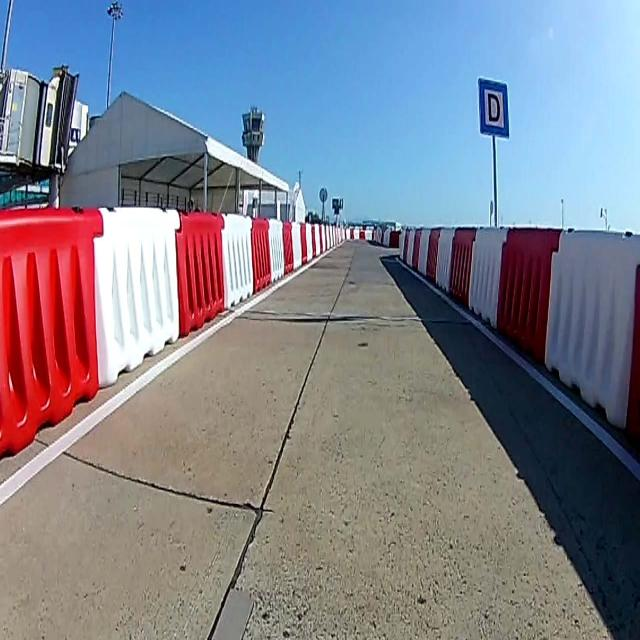durak: (478, 77, 509, 136)
